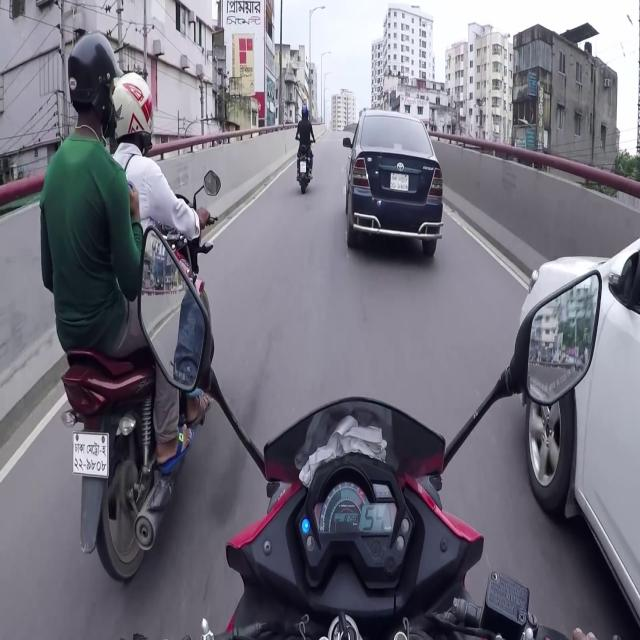blue: (342, 106, 444, 257)
white: (521, 227, 640, 640)
